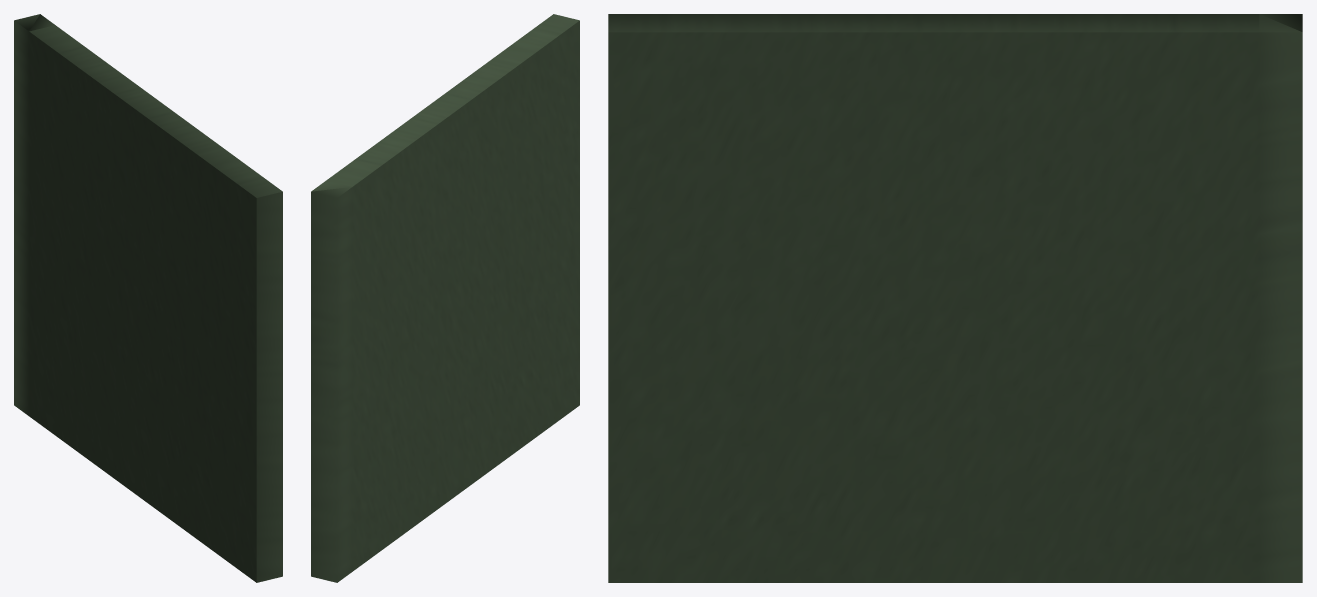
The picture shows the model from 3 angles, left to right: view 1: azimuth 30°, elevation 25°; view 2: azimuth 150°, elevation 25°; view 3: azimuth 270°, elevation 25°; orthographic projection. The views are drawn at different scales.
Bounding box in the file's own units: 0.08 × 1.12 × 1.28.
Materials: 1 (1 with a texture image).
